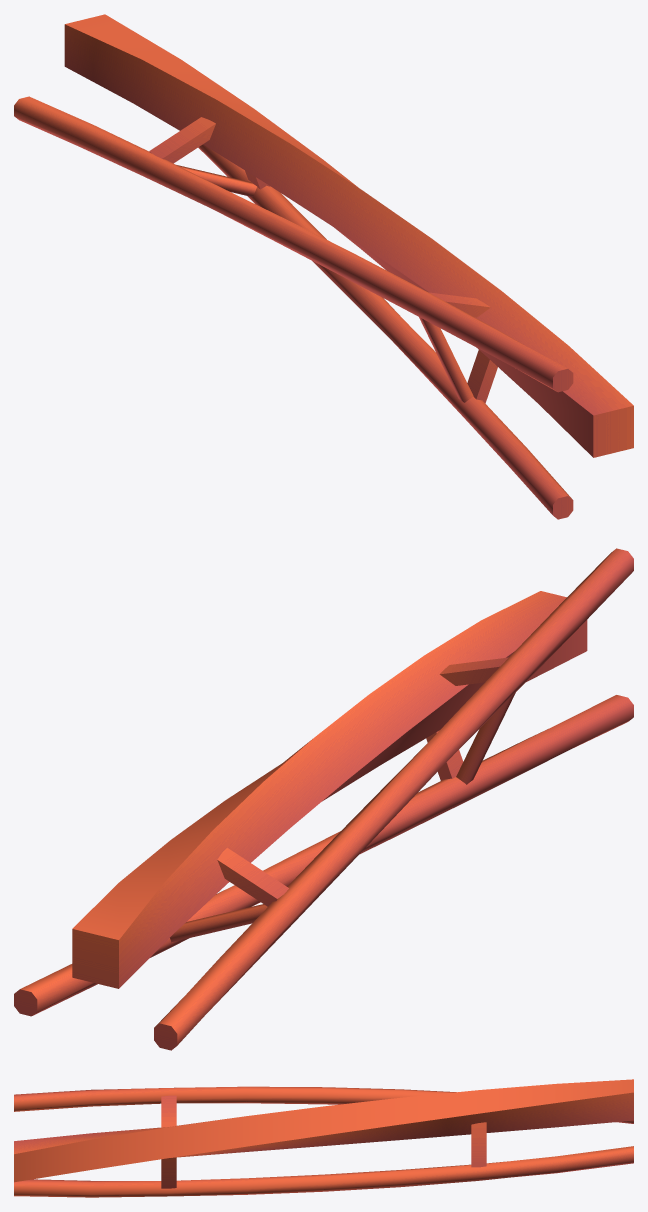
The model's file is coaster-hanging-straight-skew-left-side.glb.
3 views of the same model, one above another, from view 1: azimuth 30°, elevation 25°; view 2: azimuth 150°, elevation 25°; view 3: azimuth 270°, elevation 25° (orthographic). The views are drawn at different scales.
Visible parts, largest first — view 1: coaster-hanging-straight-skew-left-side; view 2: coaster-hanging-straight-skew-left-side; view 3: coaster-hanging-straight-skew-left-side.
Part boxes in pixels (bbox=[...]): coaster-hanging-straight-skew-left-side: bbox=[14, 14, 633, 519]; coaster-hanging-straight-skew-left-side: bbox=[14, 548, 633, 1050]; coaster-hanging-straight-skew-left-side: bbox=[14, 1079, 633, 1197].
Size of the model in its own units: 2.29 by 2.29 by 12.
1 material, 1 textured.
